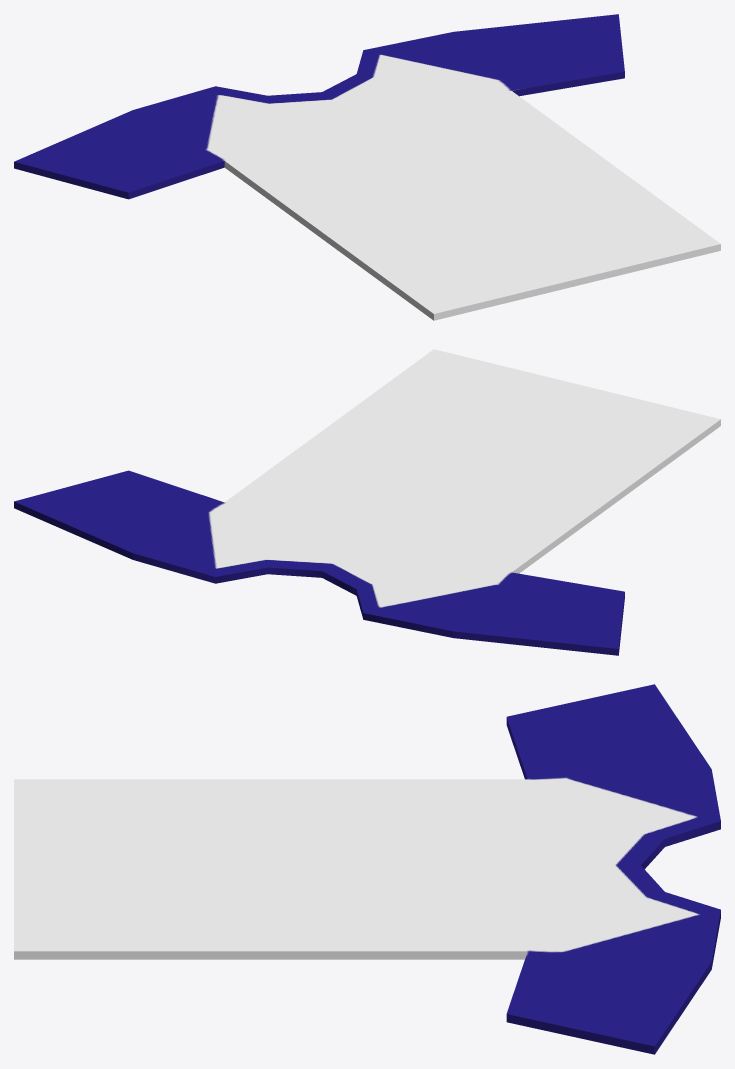
File: Blue Shirt.fbx
3 renders of one model, top to bottom at view 1: azimuth 30°, elevation 25°; view 2: azimuth 150°, elevation 25°; view 3: azimuth 270°, elevation 25°, orthographic. The views are drawn at different scales.
Parts seen in each view (by area): view 1: Blue_Shirt1; view 2: Blue_Shirt1; view 3: Blue_Shirt1.
Boxes of the visible parts, x1,y1,x2,y2 form: Blue_Shirt1: (14,14,720,320); Blue_Shirt1: (14,349,720,655); Blue_Shirt1: (14,684,720,1054).
Bounding box in the file's own units: 3.66 × 0.039 × 3.02.
